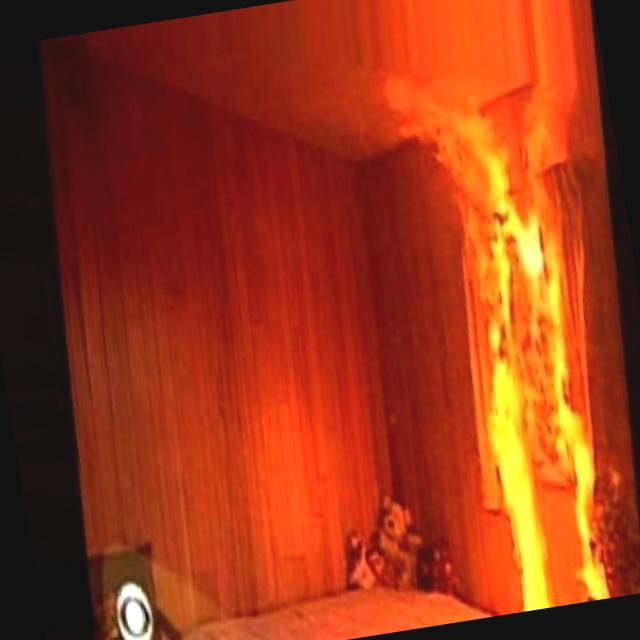fire: (366, 0, 640, 621)
